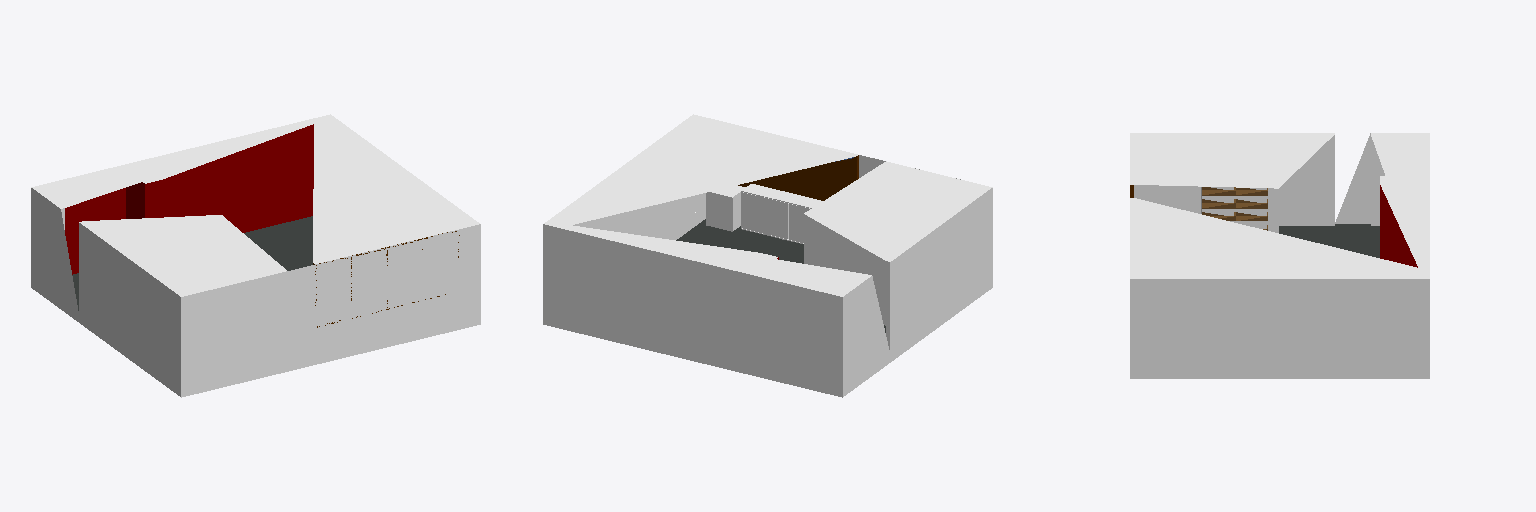
File: edge.obj
3 views of the same model, side by side, from view 1: azimuth 30°, elevation 25°; view 2: azimuth 150°, elevation 25°; view 3: azimuth 270°, elevation 25° (orthographic).
Parts seen in each view (by area): view 1: Edge_Floor_plan__birdseye; view 2: Edge_Floor_plan__birdseye; view 3: Edge_Floor_plan__birdseye.
Part boxes in pixels (bbox=[...]): Edge_Floor_plan__birdseye: bbox=[31, 114, 480, 397]; Edge_Floor_plan__birdseye: bbox=[543, 114, 992, 397]; Edge_Floor_plan__birdseye: bbox=[1130, 133, 1429, 378].
Bounding box in the file's own units: 339 × 109 × 294.